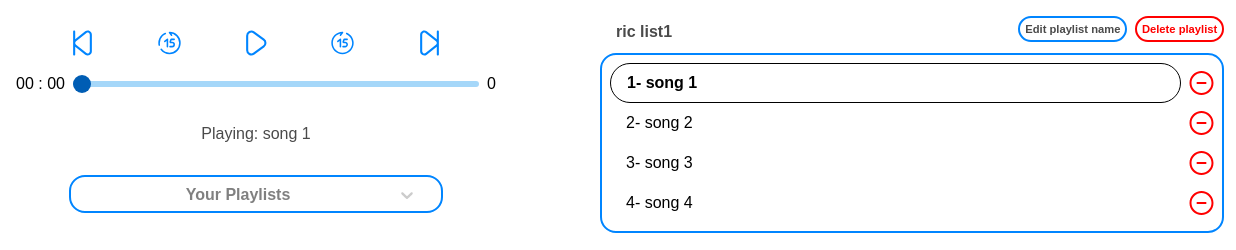
Test case: Songs list › 4- name of song playing under audio player should change after forward button is clicked
Expected: the text "Playing: song 1" is shown, x1=201 y1=125 x2=311 y2=143
Expected: the text "Playing: song 2" is not shown
Click the icon with test id "forwardButton" at (430, 43), box x1=417 y1=27 x2=442 y2=59
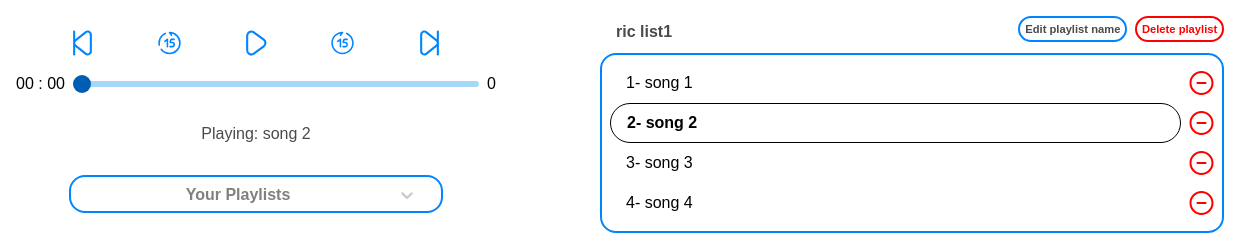
Result: the text "Playing: song 1" is gone
Result: the text "Playing: song 2" is shown at x1=201 y1=125 x2=311 y2=143
